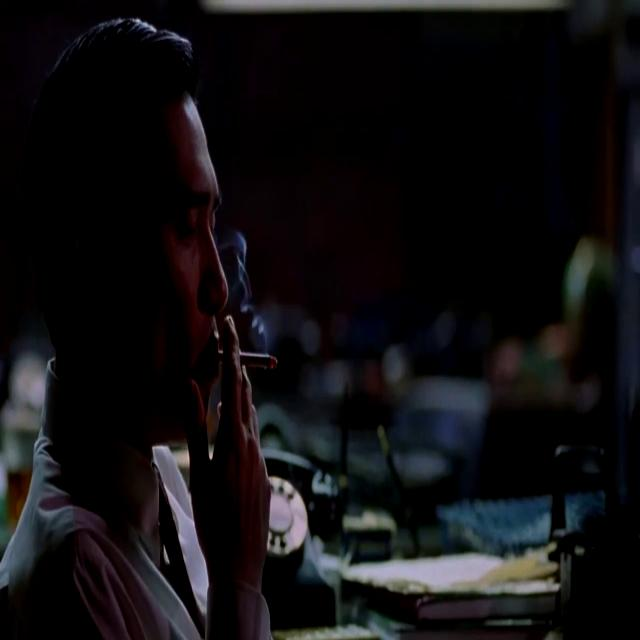Smooking: (236, 341, 283, 384)
